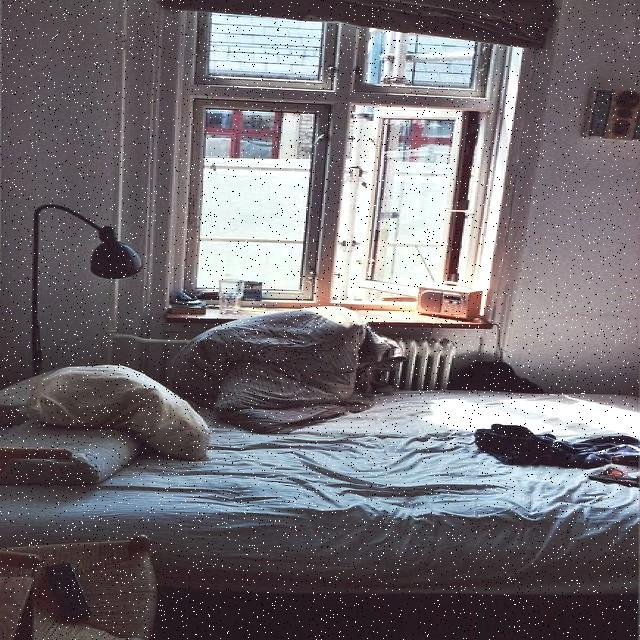bed: (0, 310, 640, 600)
